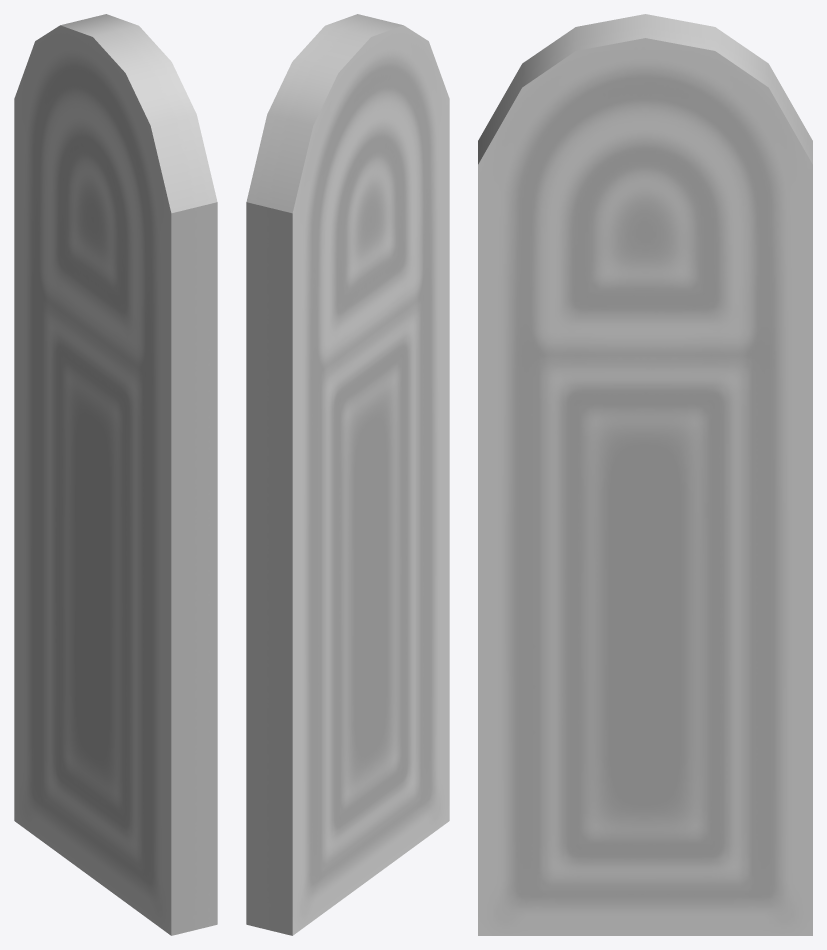
File: Door_b.fbx
The picture shows the model from 3 angles, left to right: view 1: azimuth 30°, elevation 25°; view 2: azimuth 150°, elevation 25°; view 3: azimuth 270°, elevation 25°; orthographic projection. The views are drawn at different scales.
Parts seen in each view (by area): view 1: pCube15; view 2: pCube15; view 3: pCube15.
Boxes of the visible parts, box(x1,y1,x2,y2) form: pCube15: box(14, 14, 217, 935); pCube15: box(246, 14, 449, 935); pCube15: box(478, 14, 812, 935).
Size of the model in its own units: 0.2826 by 4.92 by 1.66.
